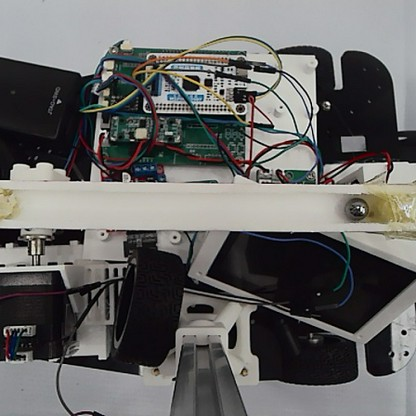ironball: (342, 194, 369, 223)
